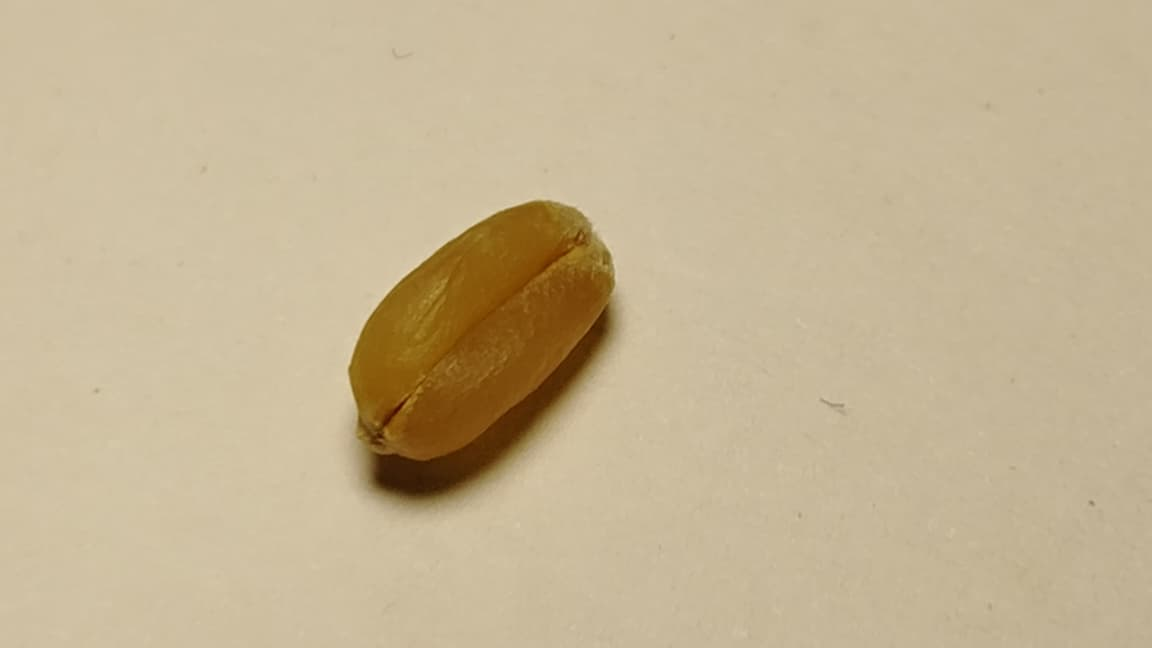healthy: (350, 200, 613, 458)
